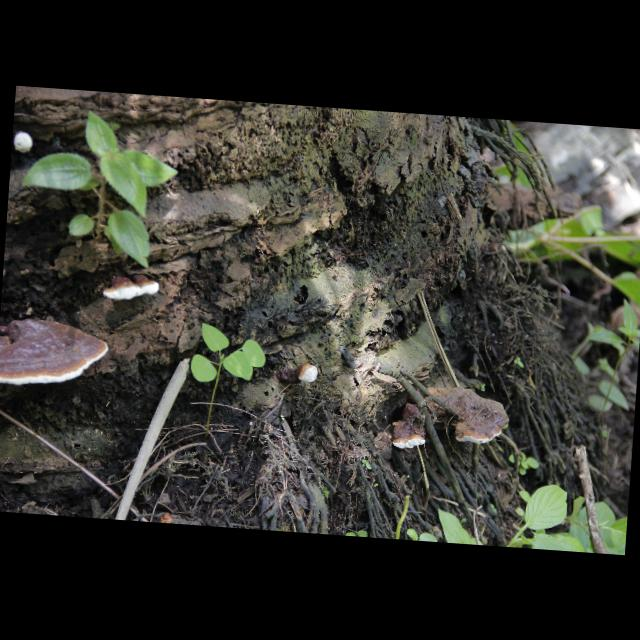ganoderma: (1, 316, 110, 393), (423, 386, 512, 448), (391, 403, 431, 452), (103, 272, 161, 305)
primordium: (13, 132, 35, 155), (296, 364, 319, 385)
